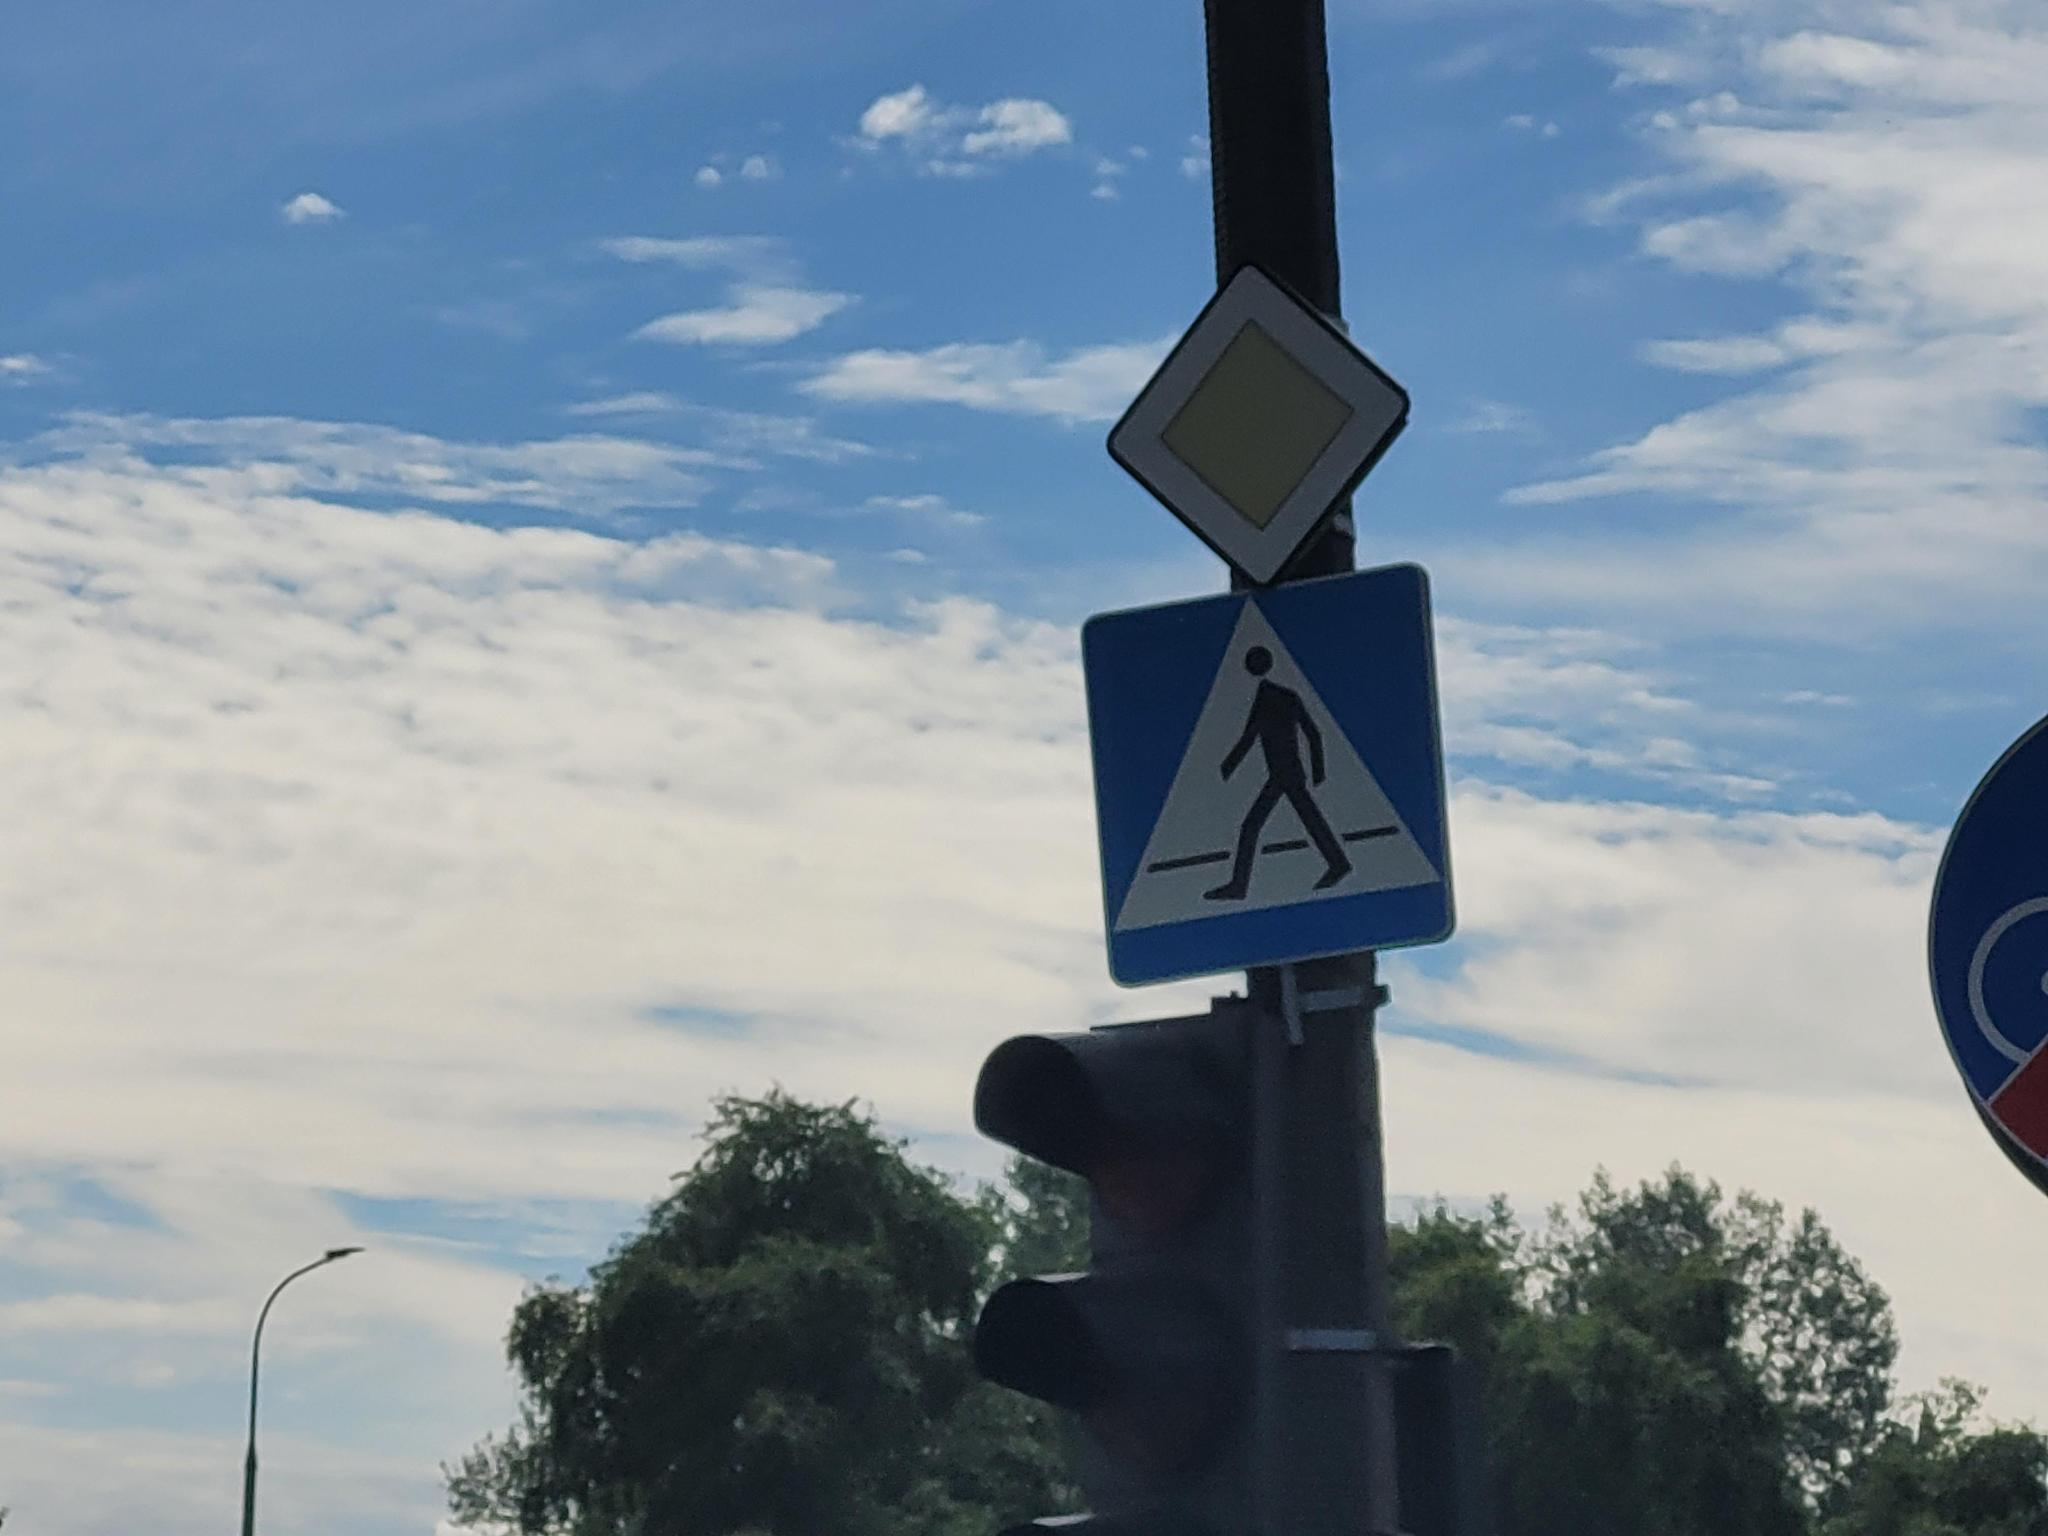information: (1080, 561, 1458, 992), (1105, 253, 1411, 586)
mandatory: (1929, 703, 2048, 1196)
